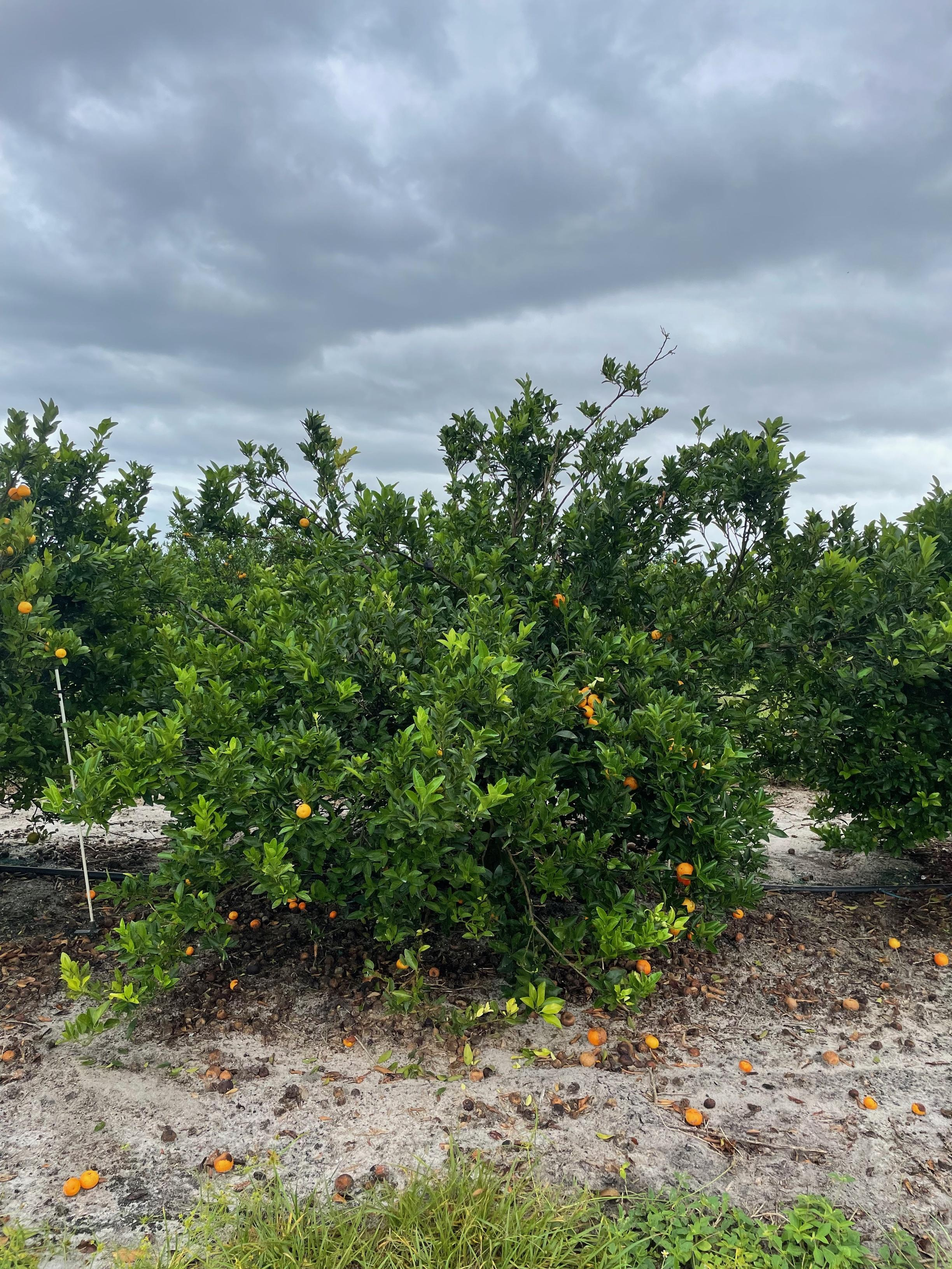fruit_on_ground: (675, 862, 697, 886), (293, 801, 314, 821), (570, 689, 589, 709), (676, 895, 696, 914), (550, 591, 570, 610), (620, 773, 640, 792), (688, 757, 707, 776), (585, 692, 604, 710), (667, 920, 685, 938), (587, 713, 604, 731), (16, 600, 35, 615), (16, 483, 32, 499), (7, 486, 23, 502), (579, 704, 596, 719), (26, 830, 41, 845), (23, 531, 37, 547), (0, 515, 14, 530), (580, 686, 595, 700), (650, 628, 664, 642), (53, 647, 68, 660), (2, 544, 15, 558), (298, 516, 312, 529)
fruit_on_tree: (212, 1151, 234, 1174), (78, 1168, 100, 1190), (586, 1025, 607, 1046), (683, 1106, 705, 1126), (62, 1175, 81, 1197), (557, 1009, 578, 1028), (633, 956, 653, 975), (641, 1032, 660, 1051), (578, 1049, 596, 1067), (842, 995, 860, 1012), (933, 950, 950, 967), (616, 1040, 634, 1056), (908, 1100, 926, 1116), (822, 1049, 840, 1065), (468, 1066, 485, 1082), (861, 1094, 878, 1110), (782, 995, 798, 1011), (2, 1047, 17, 1063), (394, 957, 410, 972), (738, 1058, 753, 1073), (342, 1033, 357, 1048), (218, 1066, 233, 1080), (225, 909, 240, 923), (887, 935, 902, 949), (427, 964, 441, 978), (227, 977, 240, 991), (84, 888, 97, 901), (183, 943, 196, 956), (287, 900, 300, 912), (733, 930, 745, 942), (732, 907, 745, 918), (327, 908, 339, 919), (250, 917, 262, 928), (298, 900, 309, 911), (796, 941, 807, 951)
